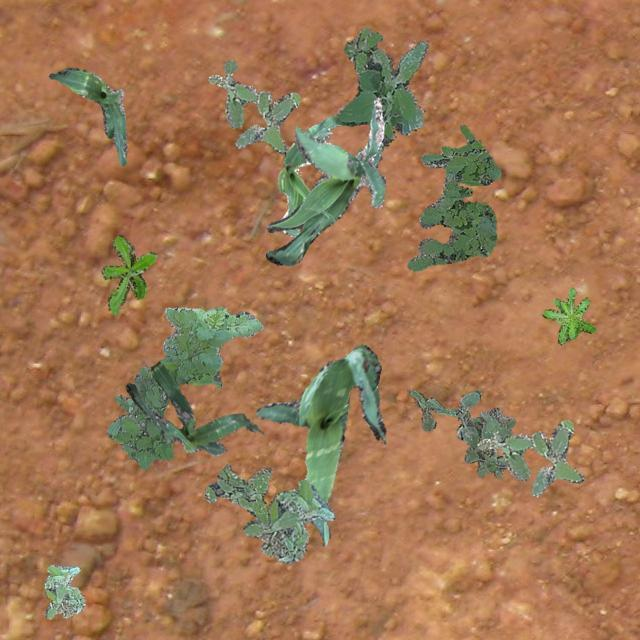crop: (254, 343, 384, 544), (264, 96, 384, 264), (124, 360, 260, 454), (48, 66, 126, 165), (276, 115, 338, 236)
weed: (108, 306, 262, 468), (406, 123, 499, 270), (332, 27, 428, 166), (406, 388, 514, 469), (208, 60, 300, 154), (477, 418, 582, 496), (242, 478, 334, 562), (100, 234, 156, 314), (203, 462, 270, 526), (456, 406, 510, 476), (542, 286, 594, 344), (42, 564, 84, 618)
